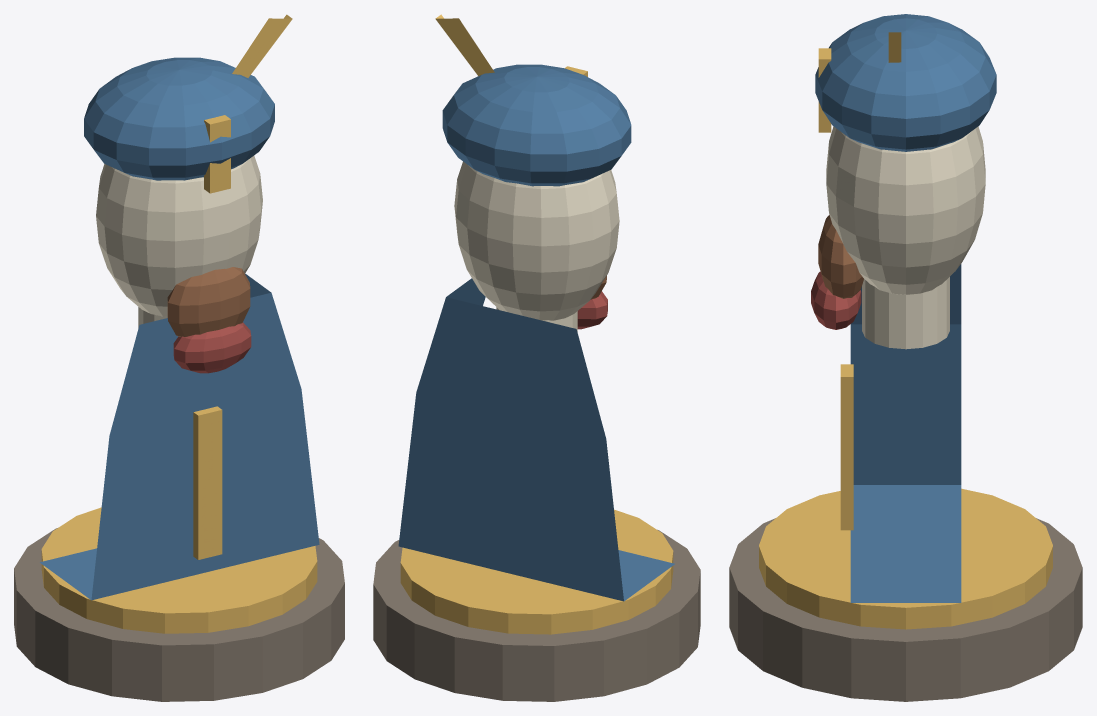
Rendered from sambhaji-maharaj.glb.
3 renders of one model, left to right at view 1: azimuth 30°, elevation 25°; view 2: azimuth 150°, elevation 25°; view 3: azimuth 270°, elevation 25°, orthographic. The views are drawn at different scales.
Parts seen in each view (by area): view 1: Sambhaji Maharaj; view 2: Sambhaji Maharaj; view 3: Sambhaji Maharaj.
Part boxes in pixels (x1,y1,x2,y2): Sambhaji Maharaj: (14, 14, 344, 701); Sambhaji Maharaj: (373, 14, 700, 701); Sambhaji Maharaj: (729, 14, 1082, 701).
Size of the model in its own units: 0.96 by 1.91 by 0.96.
